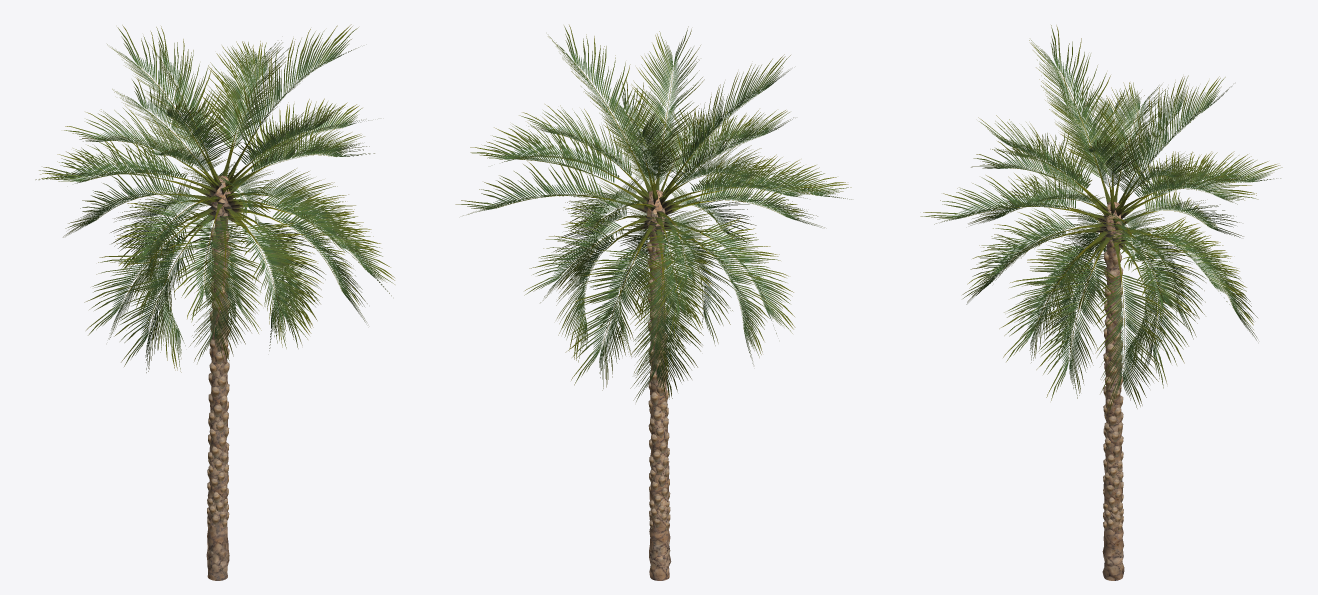
File: date_palm.glb
3 renders of one model, left to right at view 1: azimuth 30°, elevation 25°; view 2: azimuth 150°, elevation 25°; view 3: azimuth 270°, elevation 25°, orthographic. The views are drawn at different scales.
Visible parts, largest first — view 1: Tree_1_Tree_1Mat_0, Tree_0_Tree_0Mat_0, Tree_3_Tree_3Mat_0, Tree_2_Tree_2Mat_0; view 2: Tree_1_Tree_1Mat_0, Tree_0_Tree_0Mat_0, Tree_3_Tree_3Mat_0, Tree_2_Tree_2Mat_0; view 3: Tree_1_Tree_1Mat_0, Tree_0_Tree_0Mat_0, Tree_2_Tree_2Mat_0, Tree_3_Tree_3Mat_0.
Boxes of the visible parts, x1,y1,x2,y2 form: Tree_1_Tree_1Mat_0: (35,24,394,372); Tree_0_Tree_0Mat_0: (206,175,230,580); Tree_3_Tree_3Mat_0: (155,125,293,264); Tree_2_Tree_2Mat_0: (207,228,230,528); Tree_1_Tree_1Mat_0: (455,25,851,401); Tree_0_Tree_0Mat_0: (647,190,671,580); Tree_3_Tree_3Mat_0: (583,140,723,289); Tree_2_Tree_2Mat_0: (647,241,670,530); Tree_1_Tree_1Mat_0: (920,25,1282,415); Tree_0_Tree_0Mat_0: (1102,202,1124,580); Tree_2_Tree_2Mat_0: (1103,251,1123,531); Tree_3_Tree_3Mat_0: (1049,155,1176,292).
Size of the model in its own units: 2.23 by 3 by 2.13.
Materials: 4 (4 with a texture image).
